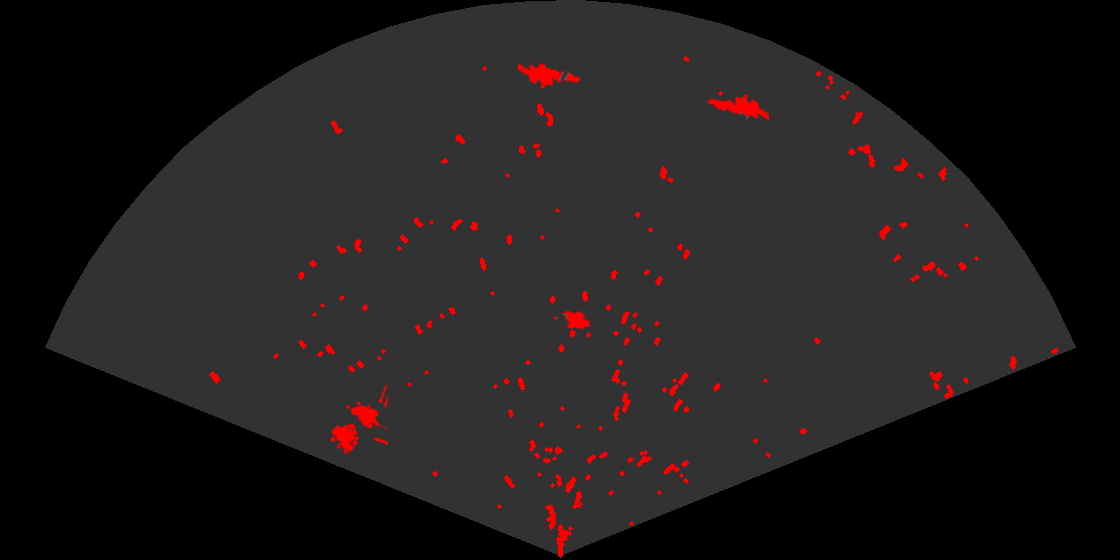AUV: (552, 309, 592, 331)
ball: (329, 426, 360, 455)
cage: (330, 385, 388, 454)
frogman: (518, 62, 582, 91), (706, 93, 769, 122)
